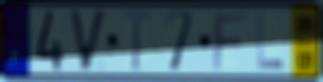4: (35, 8, 66, 73)
7: (165, 9, 193, 73)
F: (211, 11, 249, 73)
L: (255, 11, 286, 72)
T: (122, 9, 152, 74)
V: (67, 8, 109, 74)
